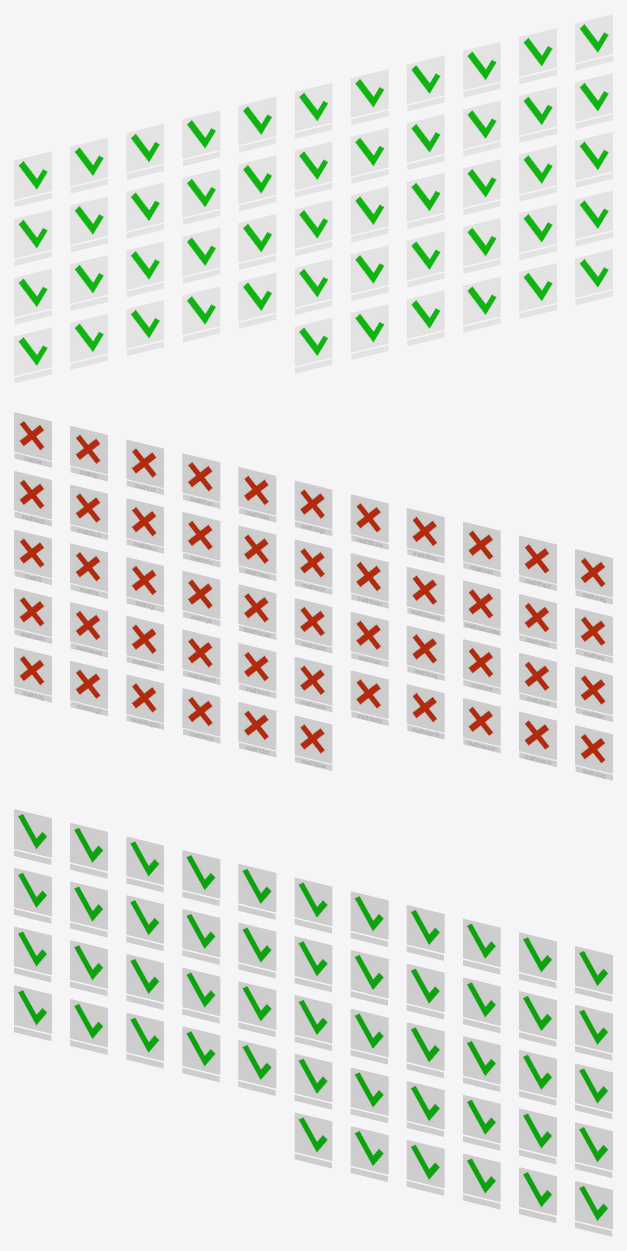
The model's file is 20250109-MathTests.glb.
3 renders of one model, top to bottom at view 1: azimuth 30°, elevation 25°; view 2: azimuth 150°, elevation 25°; view 3: azimuth 330°, elevation 25°, orthographic.
Visible parts, largest first — view 1: Pass (×50); view 2: Fail (×50); view 3: Pass (×50).
Boxes of the visible parts, x1=… form: Pass (×50): x1=14, y1=15, x2=612, y2=375; Fail (×50): x1=14, y1=412, x2=612, y2=773; Pass (×50): x1=14, y1=809, x2=612, y2=1229.
Bounding box in the file's own units: 16 × 7.2 × 0.025.
Materials: 4 (3 with a texture image).
